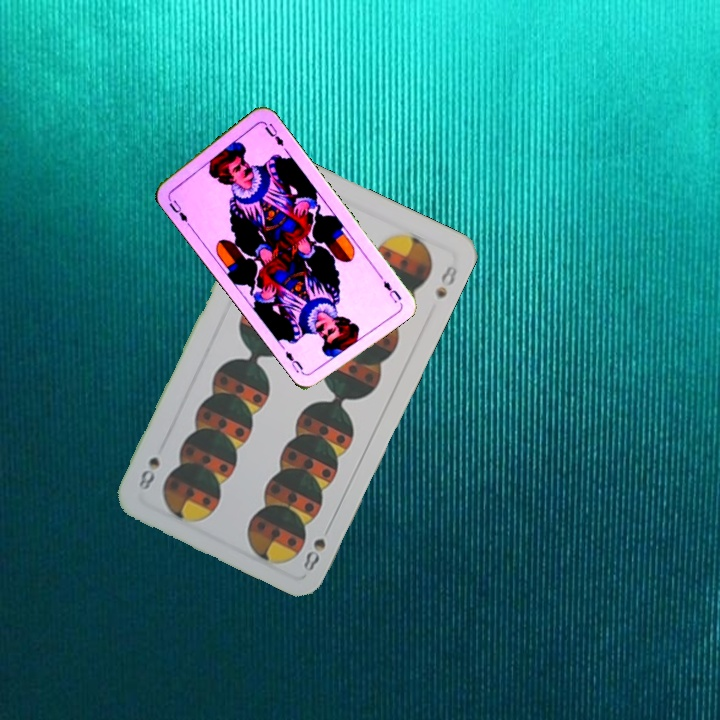EU: (164, 193, 190, 224), (379, 277, 404, 306)
S8: (299, 534, 329, 574)
